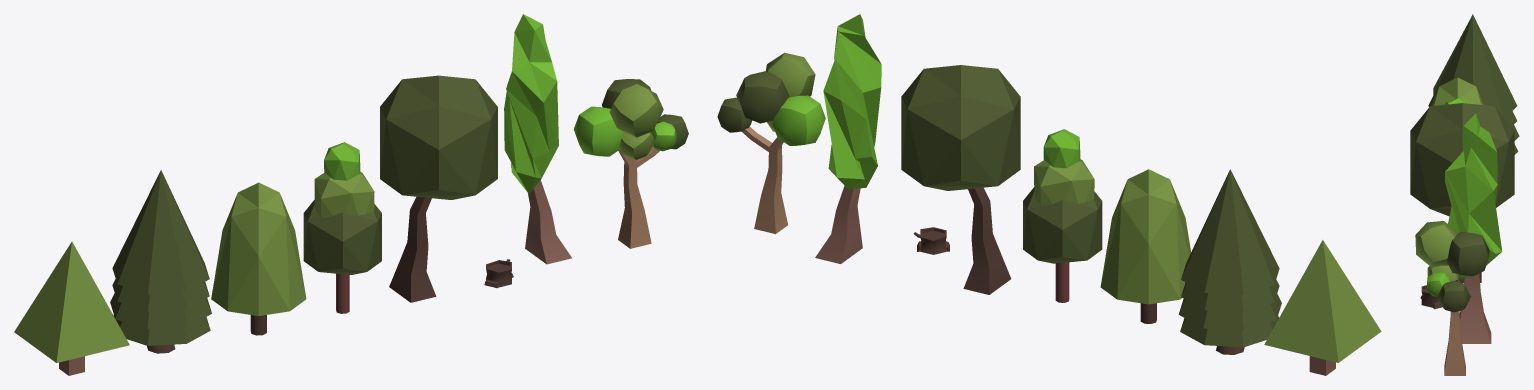
File: Prop_stage3_test_1.fbx
3 renders of one model, left to right at view 1: azimuth 30°, elevation 25°; view 2: azimuth 150°, elevation 25°; view 3: azimuth 270°, elevation 25°, orthographic. The views are drawn at different scales.
Visible parts, largest first — view 1: Prop_stage3_015, Prop_stage3_013, Prop_stage3_025, Prop_stage3_008, Prop_stage3_005, Prop_stage3_012, Prop_stage3_016, Prop_stage3_010, Prop_stage3_018, Prop_stage3_019, Prop_stage3_017, Prop_stage3_003 (+8 smaller); view 2: Prop_stage3_015, Prop_stage3_013, Prop_stage3_025, Prop_stage3_008, Prop_stage3_005, Prop_stage3_012, Prop_stage3_016, Prop_stage3_010, Prop_stage3_017, Prop_stage3_024, Prop_stage3_018, Prop_stage3_020 (+8 smaller); view 3: Prop_stage3_015, Prop_stage3_025, Prop_stage3_005, Prop_stage3_020, Prop_stage3_018, Prop_stage3_019, Prop_stage3_017, Prop_stage3_013, Prop_stage3_023, Prop_stage3_022, Prop_stage3_001, Prop_stage3_021 (+3 smaller).
Boxes of the visible parts, x1,y1,x2,y2 form: Prop_stage3_015: (380,75,497,199); Prop_stage3_013: (211,182,306,315); Prop_stage3_025: (504,14,558,193); Prop_stage3_008: (14,241,129,362); Prop_stage3_005: (112,170,209,294); Prop_stage3_012: (303,200,381,274); Prop_stage3_016: (389,196,436,302); Prop_stage3_010: (314,172,374,218); Prop_stage3_018: (525,180,571,264); Prop_stage3_019: (609,84,663,137); Prop_stage3_017: (618,146,659,248); Prop_stage3_003: (110,293,211,329); Prop_stage3_015: (901,65,1020,190); Prop_stage3_013: (1100,169,1191,304); Prop_stage3_025: (823,14,881,189); Prop_stage3_008: (1264,240,1381,362); Prop_stage3_005: (1181,169,1279,294); Prop_stage3_012: (1023,187,1102,263); Prop_stage3_016: (963,187,1011,294); Prop_stage3_010: (1034,159,1094,206); Prop_stage3_017: (741,126,787,234); Prop_stage3_024: (772,95,825,145); Prop_stage3_018: (815,186,862,263); Prop_stage3_020: (736,71,789,123); Prop_stage3_015: (1410,103,1514,216); Prop_stage3_025: (1445,113,1502,265); Prop_stage3_005: (1428,14,1517,118); Prop_stage3_020: (1447,232,1489,276); Prop_stage3_018: (1459,273,1491,343); Prop_stage3_019: (1415,221,1458,267); Prop_stage3_017: (1444,281,1465,375); Prop_stage3_013: (1431,77,1483,106); Prop_stage3_023: (1437,280,1470,312); Prop_stage3_022: (1427,271,1449,296); Prop_stage3_001: (1420,285,1442,309); Prop_stage3_021: (1427,265,1458,281).
Bounding box in the file's own units: 17.48 × 6.33 × 2.91.
Materials: 1 (1 with a texture image).
